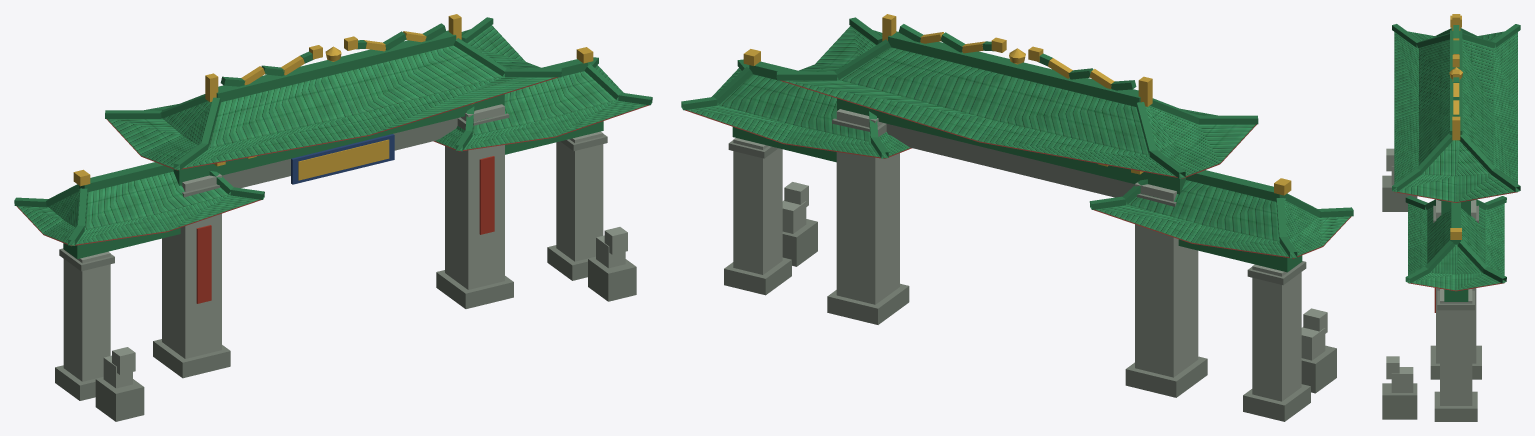
Rendered from dragon_gate.glb.
The picture shows the model from 3 angles, left to right: view 1: azimuth 30°, elevation 25°; view 2: azimuth 150°, elevation 25°; view 3: azimuth 270°, elevation 25°; orthographic projection. The views are drawn at different scales.
Parts seen in each view (by area): view 1: dragon_gate; view 2: dragon_gate; view 3: dragon_gate.
Boxes of the visible parts, x1,y1,x2,y2 form: dragon_gate: [14, 14, 652, 421]; dragon_gate: [681, 14, 1353, 421]; dragon_gate: [1382, 14, 1520, 421].
Size of the model in its own units: 19.4 by 9 by 4.6.
Materials: 2 (2 with a texture image).
